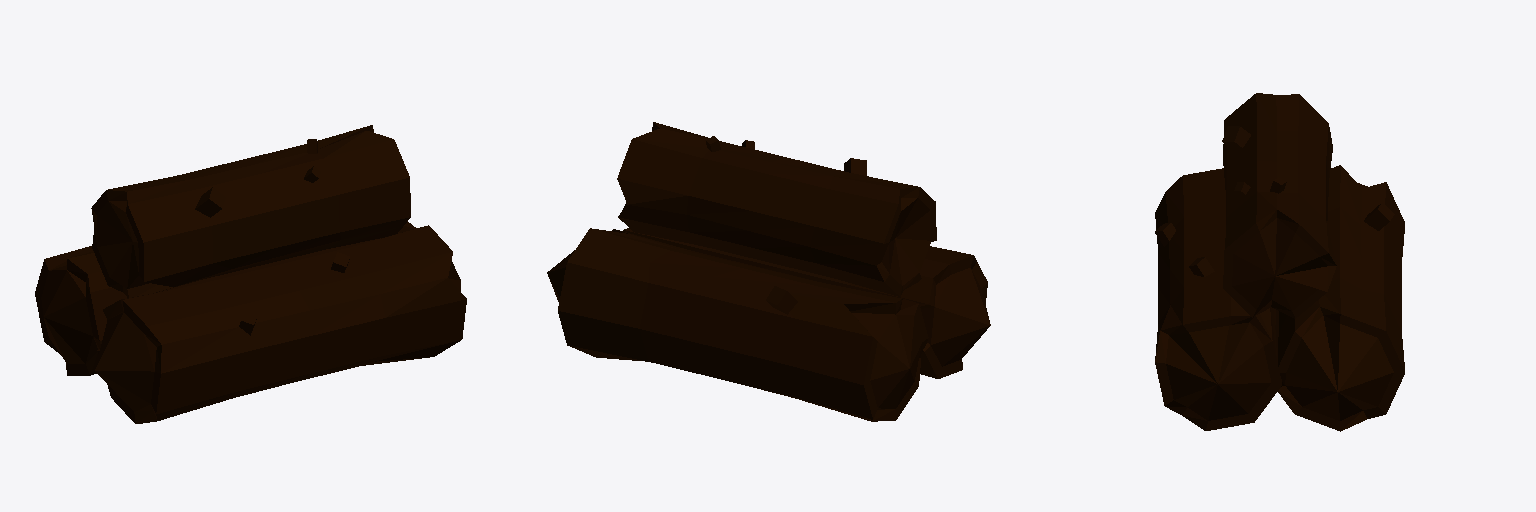
The model's file is log.obj.
The picture shows the model from 3 angles: view 1: azimuth 30°, elevation 25°; view 2: azimuth 150°, elevation 25°; view 3: azimuth 270°, elevation 25°; orthographic projection.
Parts seen in each view (by area): view 1: Tronc-rope_Cylindre.002_Cylindre.003; view 2: Tronc-rope_Cylindre.002_Cylindre.003; view 3: Tronc-rope_Cylindre.002_Cylindre.003.
Part boxes in pixels (bbox=[...]): Tronc-rope_Cylindre.002_Cylindre.003: bbox=[35, 125, 466, 423]; Tronc-rope_Cylindre.002_Cylindre.003: bbox=[547, 122, 990, 421]; Tronc-rope_Cylindre.002_Cylindre.003: bbox=[1155, 93, 1404, 431].
Bounding box in the file's own units: 6.84 × 3.52 × 3.87.